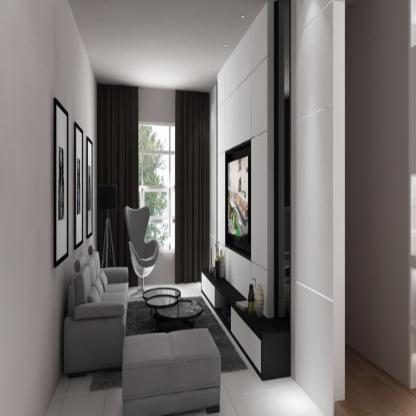kursi: (124, 204, 164, 276)
sova: (66, 243, 127, 374)
